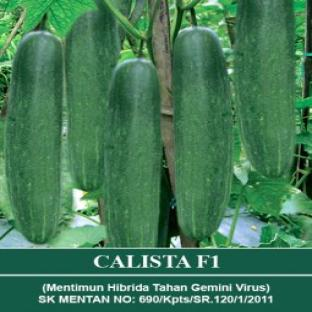Cucumber: (173, 27, 233, 239), (5, 31, 63, 242), (234, 0, 294, 177), (106, 59, 161, 247), (65, 6, 119, 191)
